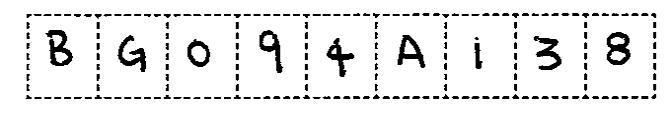0: (178, 35, 216, 72)
1: (462, 32, 495, 76)
3: (528, 30, 568, 79)
4: (319, 33, 364, 85)
8: (598, 26, 636, 70)
9: (255, 23, 289, 77)
B: (41, 25, 81, 71)
G: (112, 33, 154, 79), (390, 31, 433, 71)
